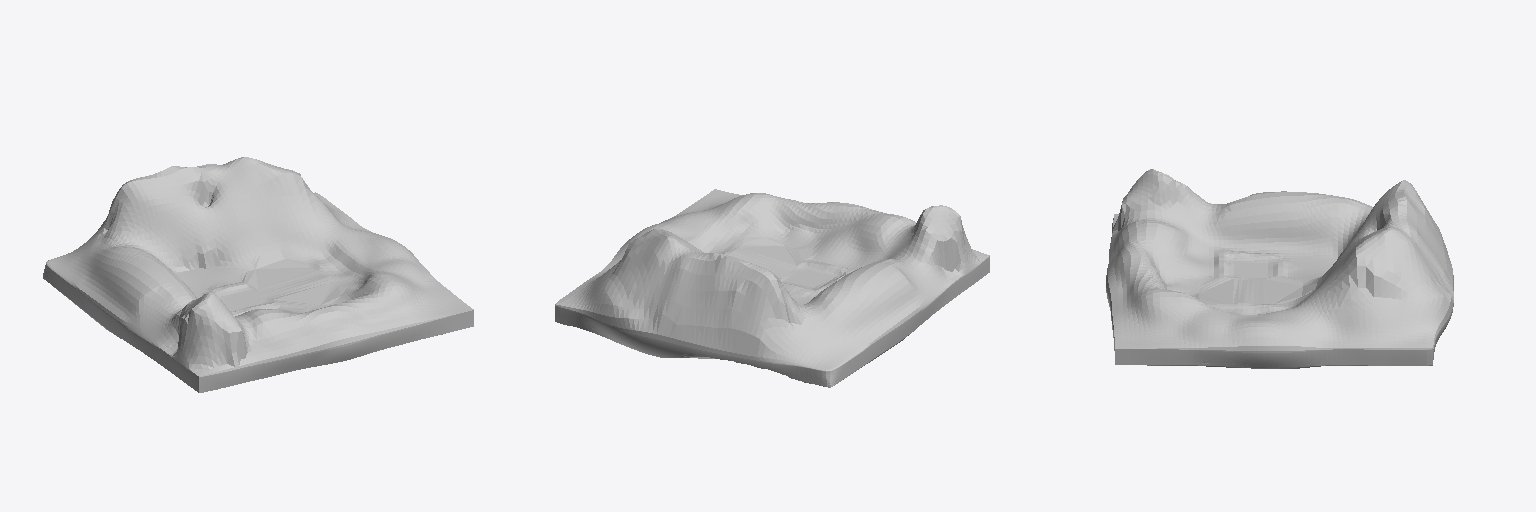
File: dirtgeo.obj
The picture shows the model from 3 angles: view 1: azimuth 30°, elevation 25°; view 2: azimuth 150°, elevation 25°; view 3: azimuth 270°, elevation 25°; orthographic projection.
Visible parts, largest first — view 1: dirtgeo_entity12_brush0.002; view 2: dirtgeo_entity12_brush0.002; view 3: dirtgeo_entity12_brush0.002.
Boxes of the visible parts, box(x1,y1,x2,y2) form: dirtgeo_entity12_brush0.002: box(43, 157, 473, 392); dirtgeo_entity12_brush0.002: box(555, 189, 989, 387); dirtgeo_entity12_brush0.002: box(1106, 169, 1453, 368).
Size of the model in its own units: 112 by 36.62 by 117.